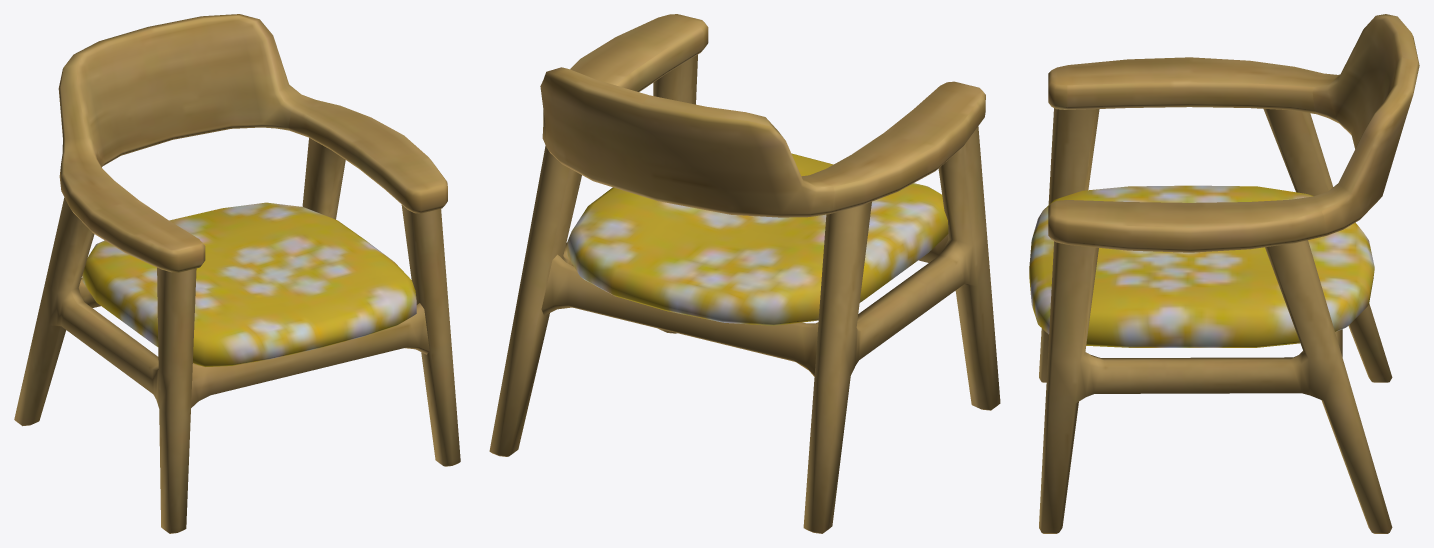
The picture shows the model from 3 angles, left to right: view 1: azimuth 30°, elevation 25°; view 2: azimuth 150°, elevation 25°; view 3: azimuth 270°, elevation 25°; orthographic projection. The views are drawn at different scales.
Size of the model in its own units: 7.95 by 8.49 by 7.56.
2 materials, 2 textured.
